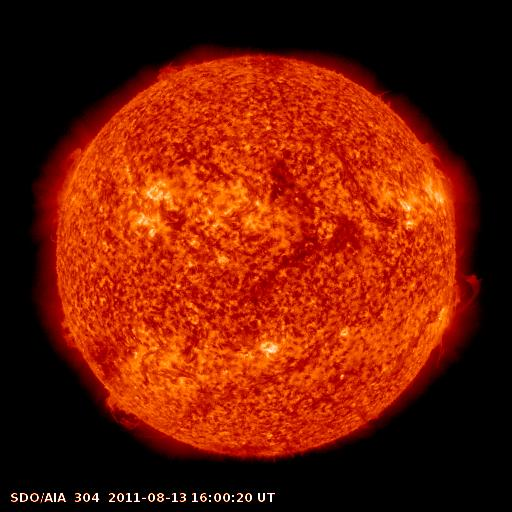prominence: (32, 140, 98, 232), (427, 263, 483, 368), (95, 387, 155, 433), (411, 129, 457, 183), (52, 313, 89, 355), (150, 51, 186, 93)
